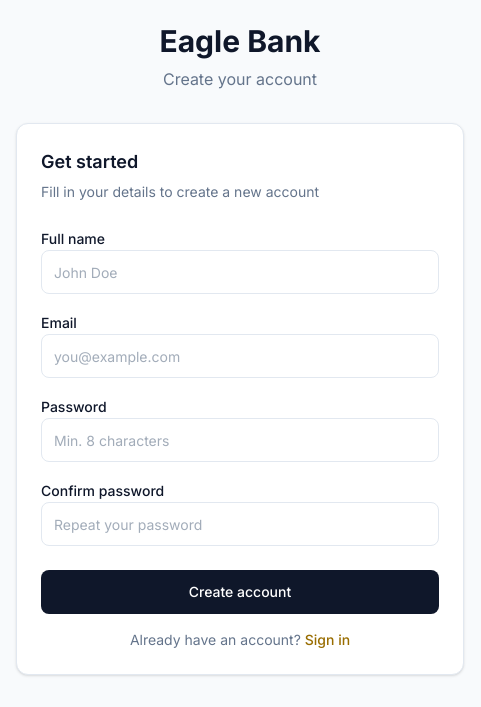
Test case: RegisterPage › shows error for short password
Type "Test User" into the field labelled "Full name" at point(240, 272), box [41, 250, 439, 294]
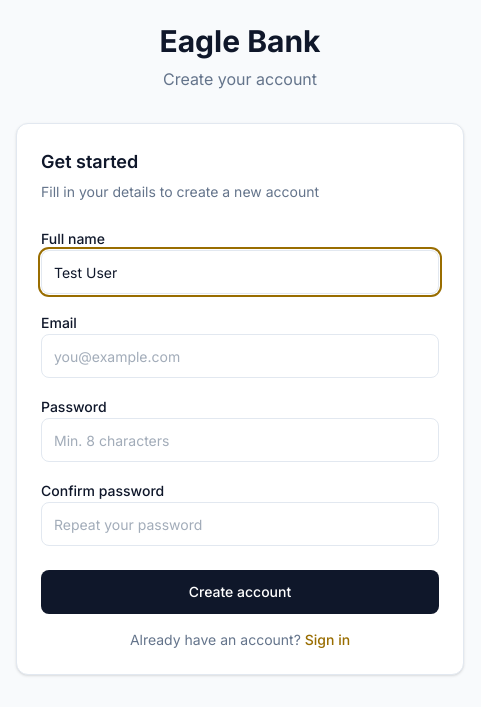
Type "test@example.com" into the field labelled "Email" at point(240, 356), box [41, 334, 439, 378]
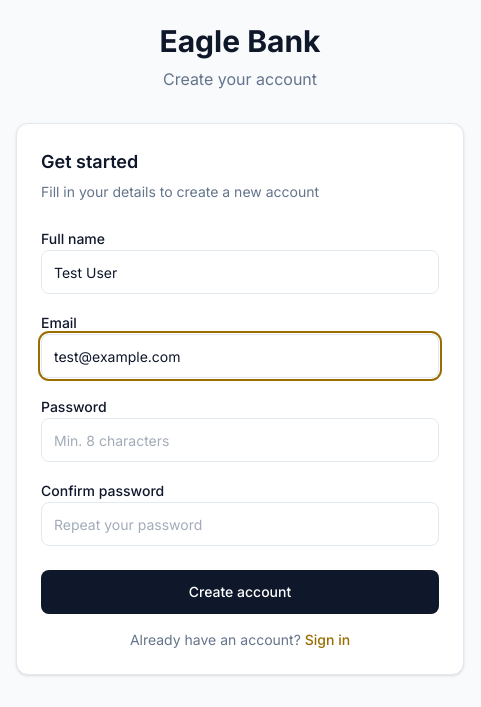
Type "short" into the password field labelled "Password" at point(240, 440), box [41, 418, 439, 462]
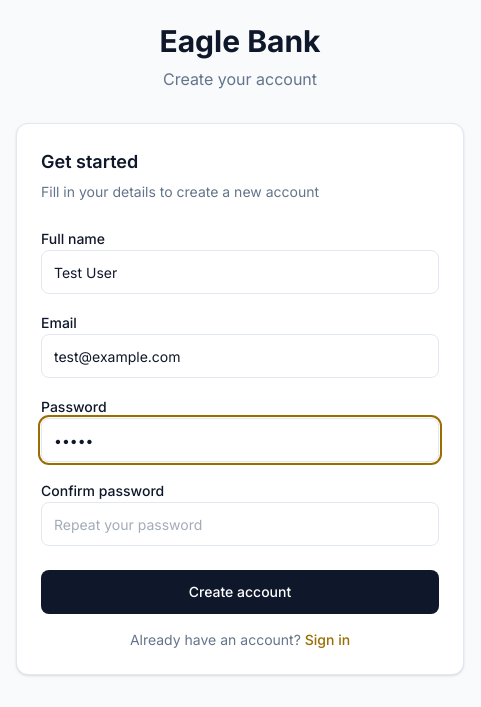
Type "short" into the password field labelled "Confirm password" at point(240, 524), box [41, 502, 439, 546]
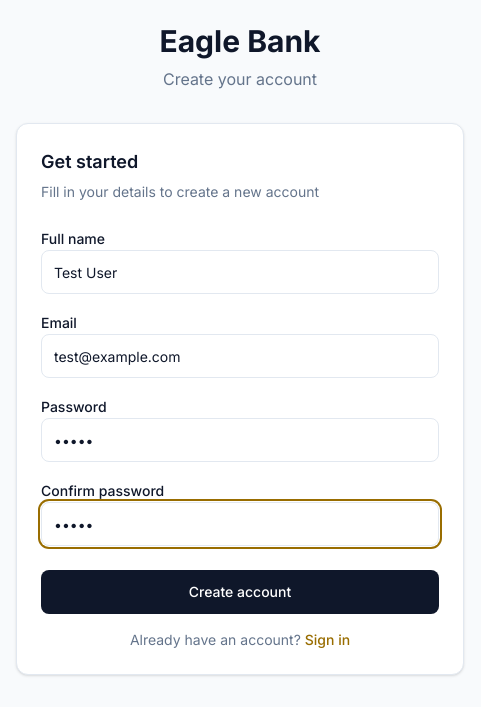
Click the button "Create account" at point(240, 592), box [41, 570, 439, 614]
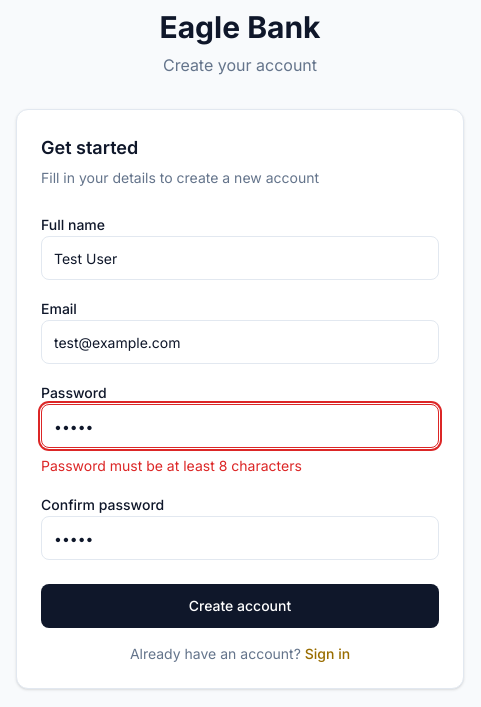
Check: the text "Password must be at least 8 characters" is shown, box [41, 457, 302, 474]
